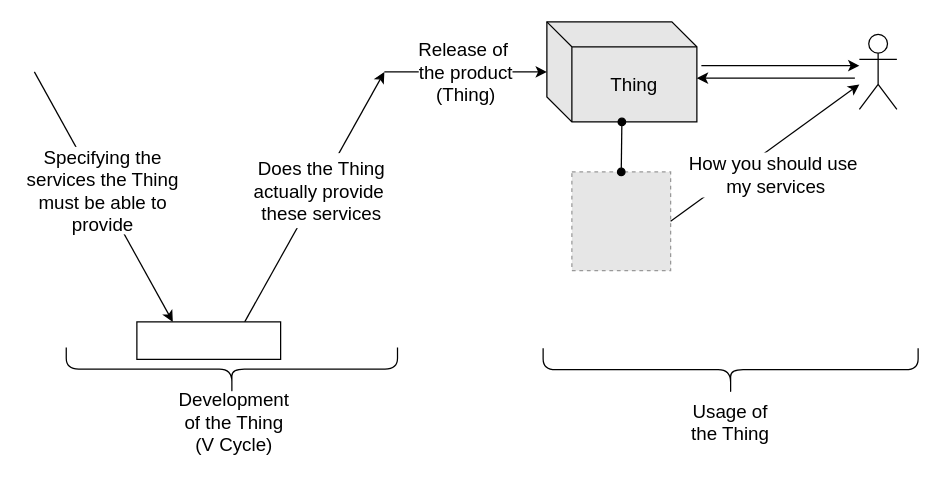
This 951x478 diagram has some shape labels left out. Grey dashed boxes stand in for pictures. The centre of each missing label's shape, as x and y in pixels:
"Implementation" goes at (208,340).
"Thing's User" goes at (877,71).
